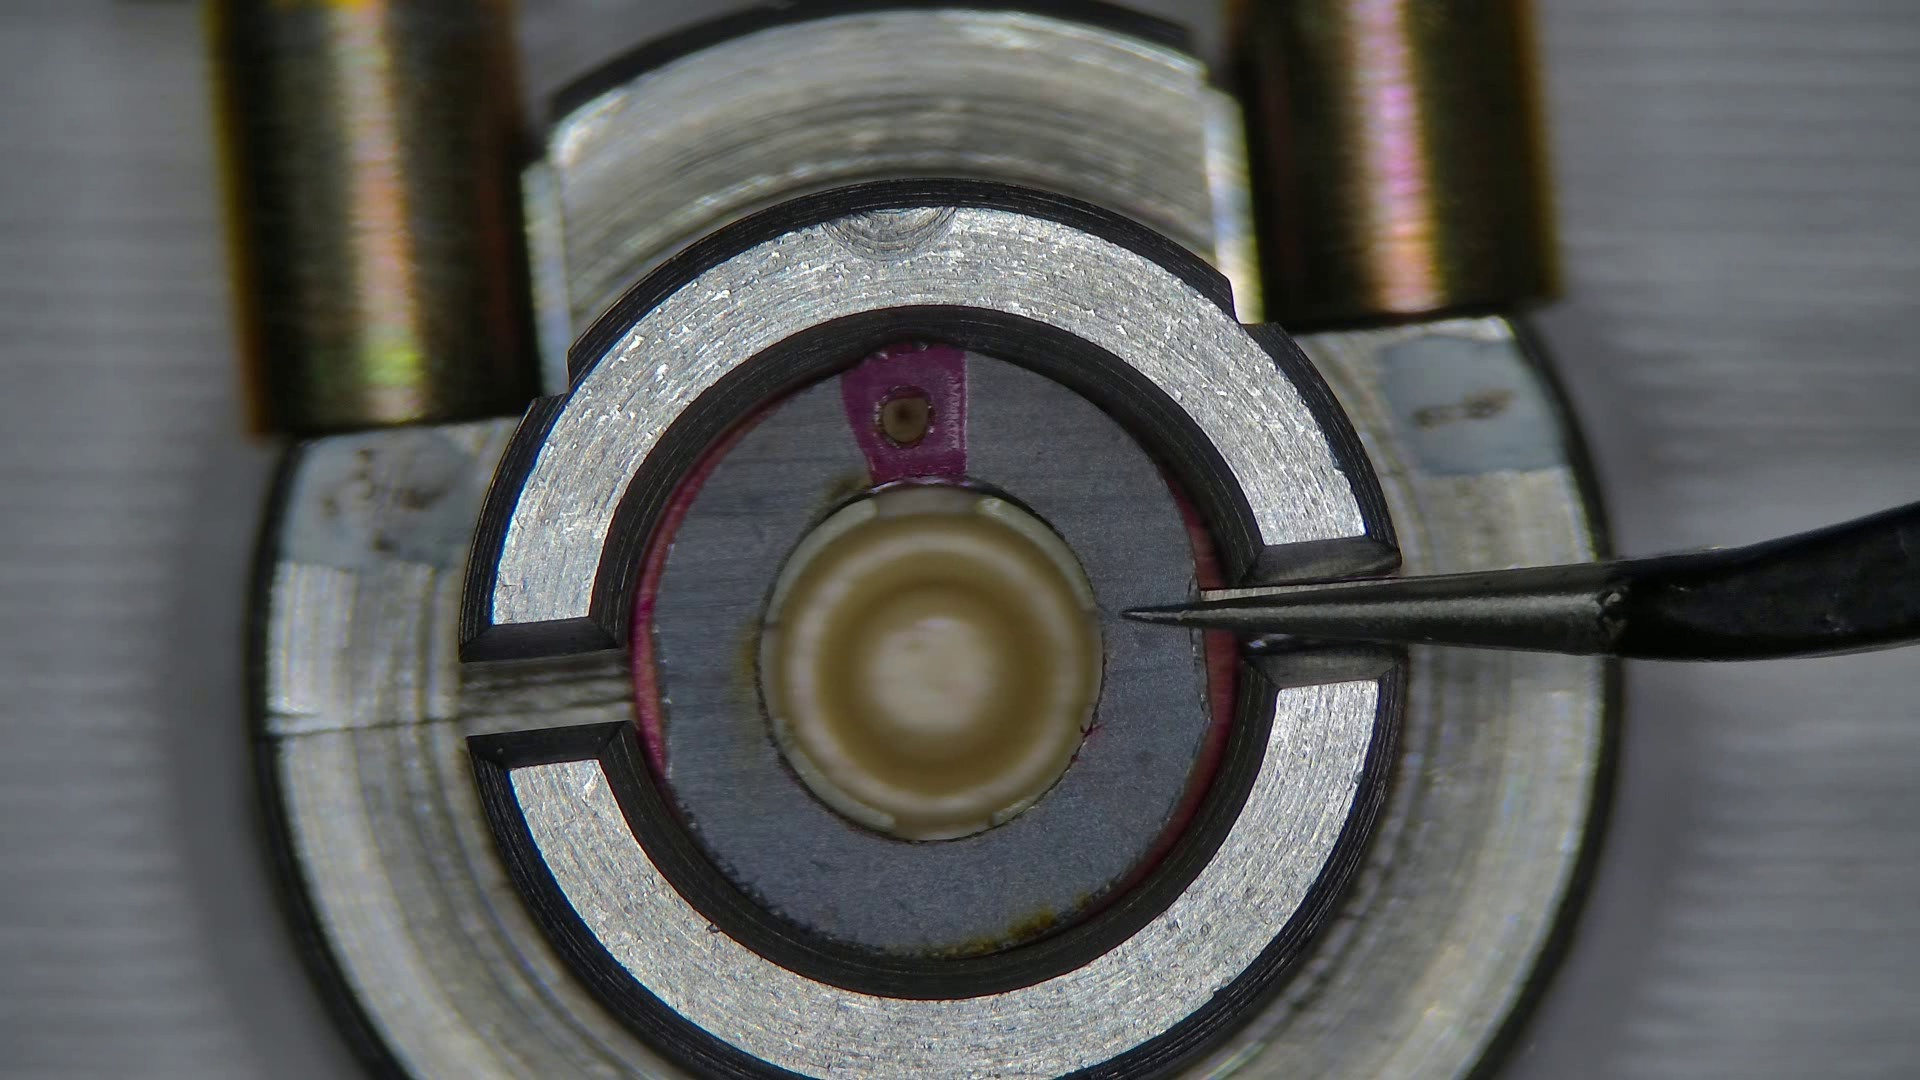YellowOring: (651, 348, 1207, 959)
